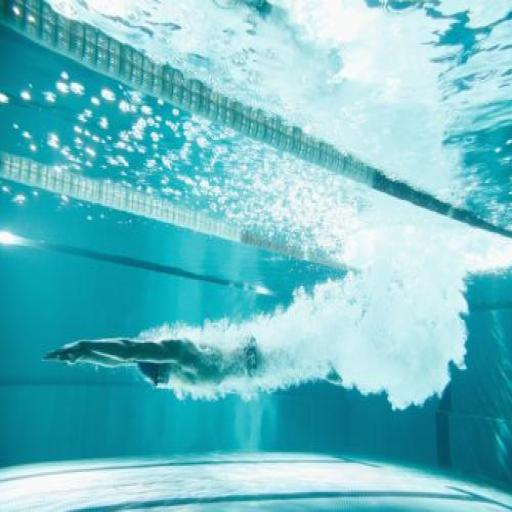swimming: (53, 250, 370, 448)
